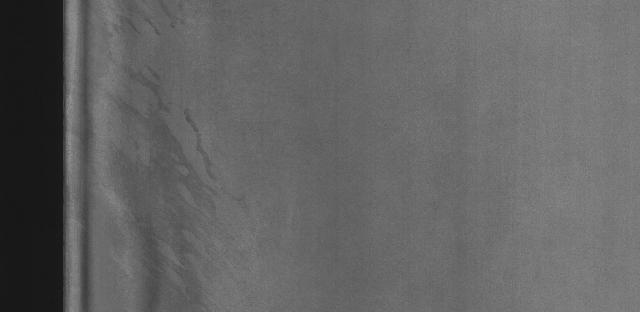water_spot: (92, 3, 238, 307)
